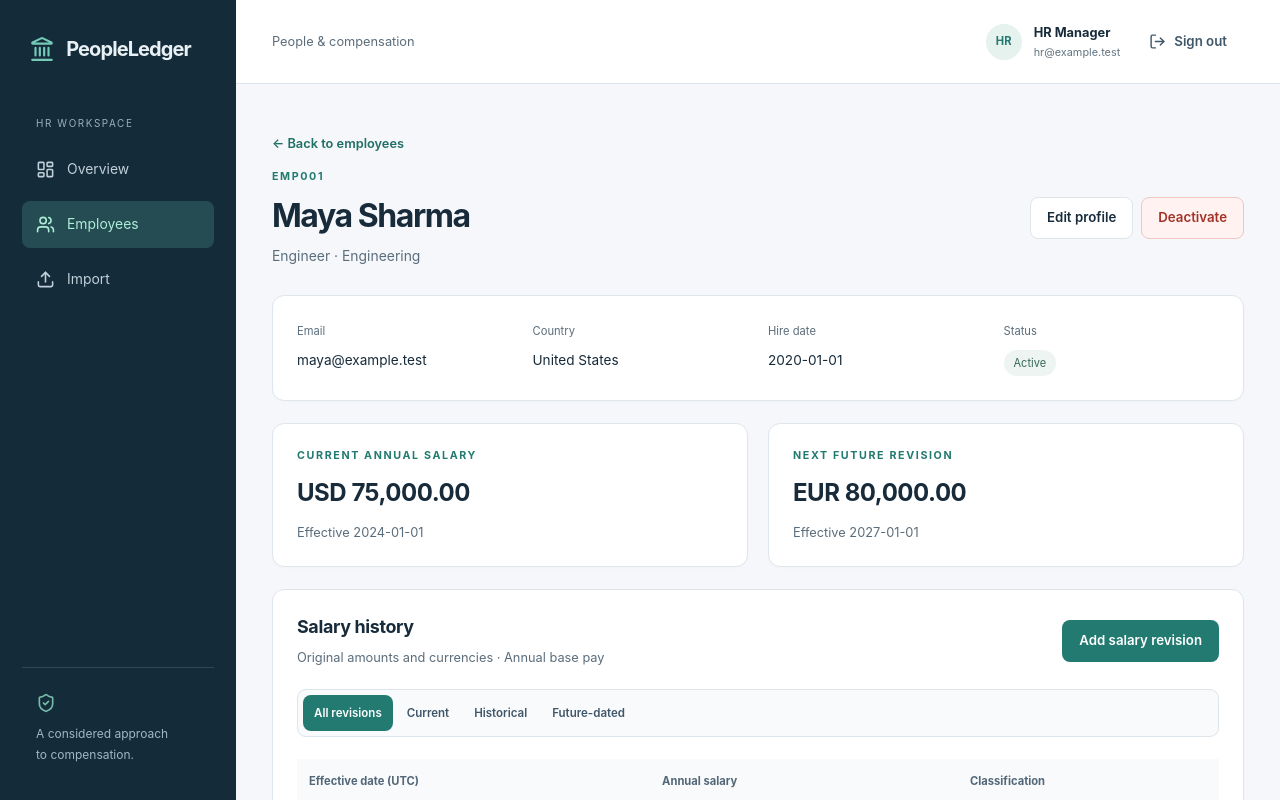
Scenario: employee and salary flows › rejects pre-hire revisions locally and accepts valid future revisions
Expected: the heading "Maya Sharma" is shown, [272,196,470,236]
Click the button "Add salary revision".
click(1141, 641)  # box [1062,620,1219,662]
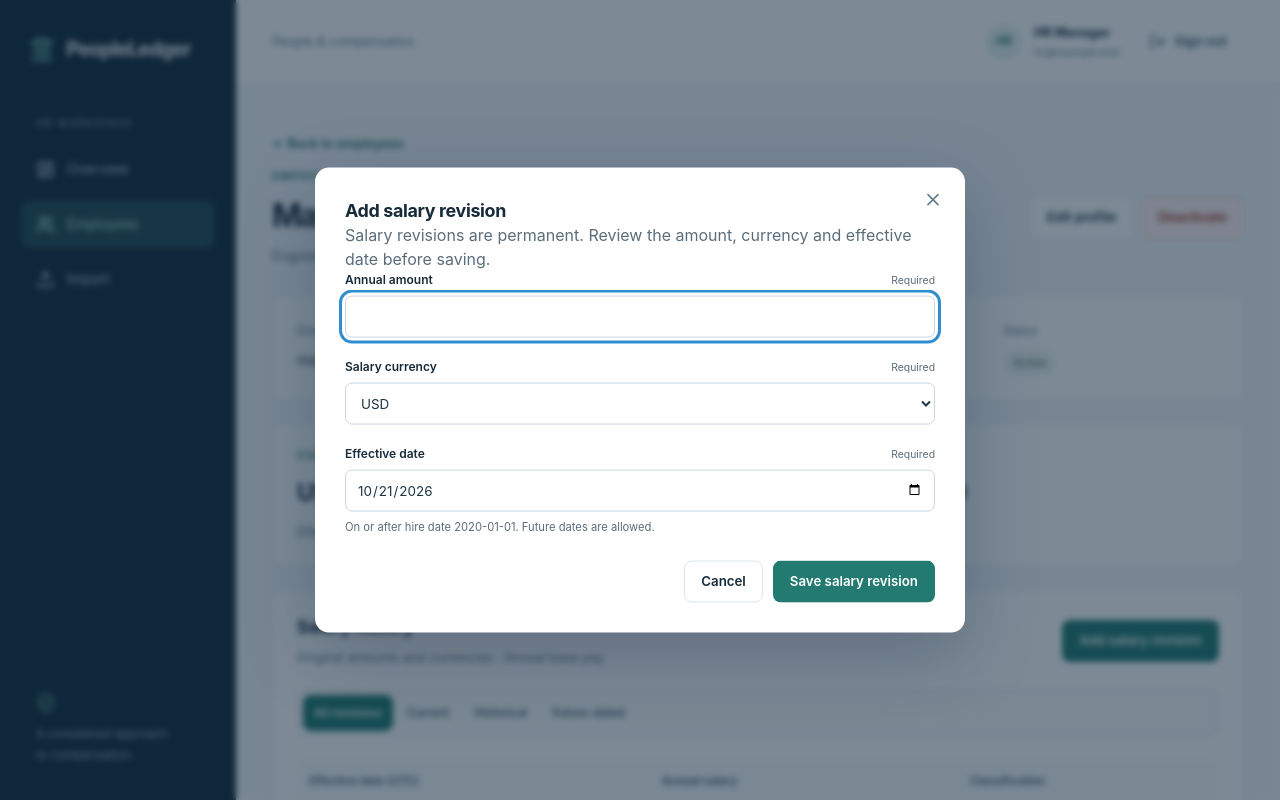
Type "90000" into the field labelled "Annual amount".
click(640, 317); type("90000")  # box [345,296,935,338]
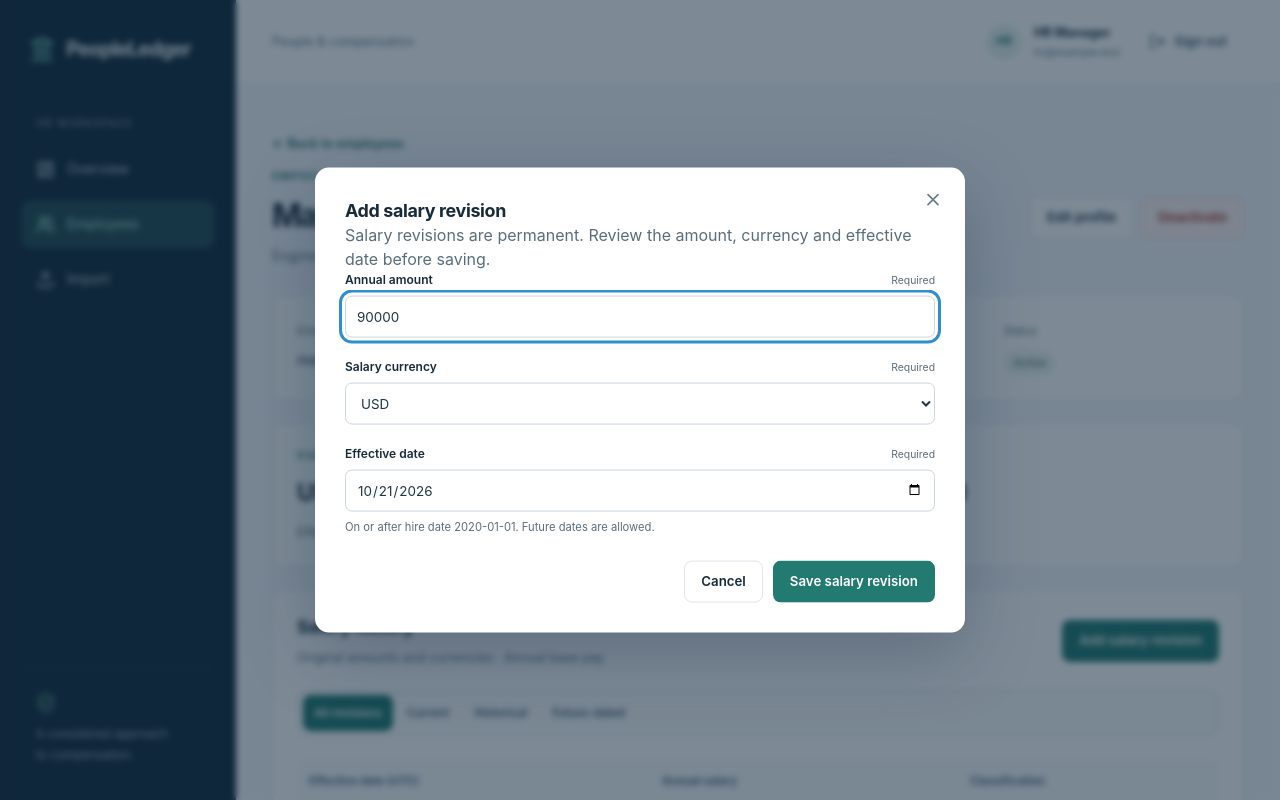
Type "2019-01-01" into the date field labelled "Effective date".
click(640, 491); type("2019-01-01")  # box [345,470,935,512]
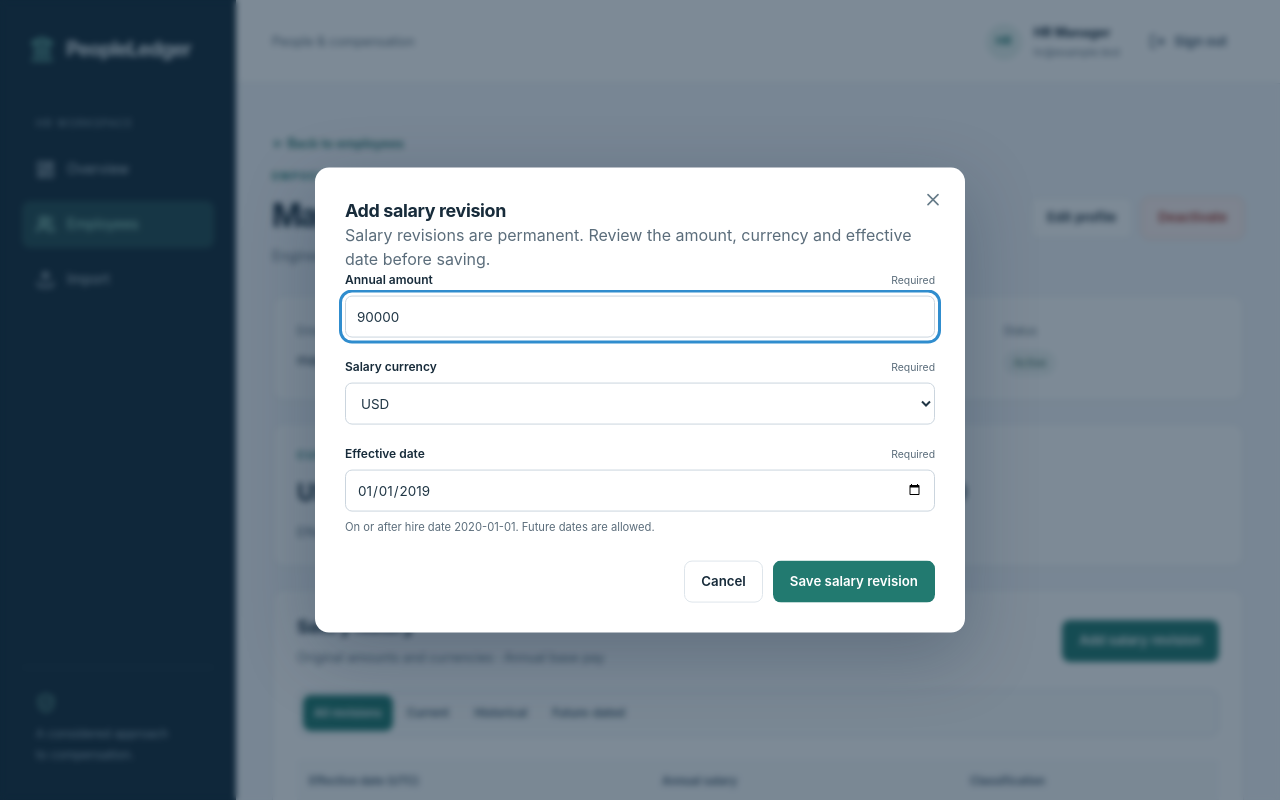
Click the button "Save salary revision".
click(854, 581)  # box [773,560,935,602]
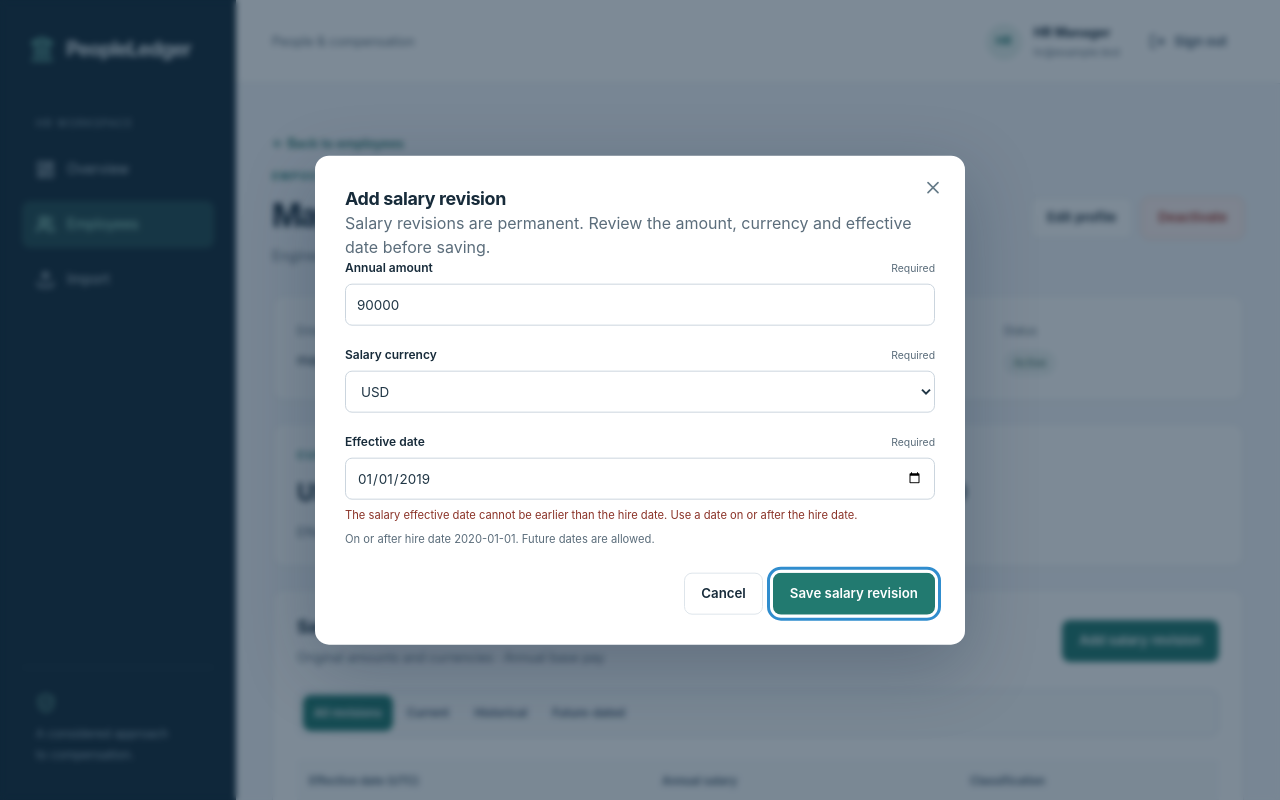
Result: the message shows "earlier than the hire date" at [345,508,858,522]
Type "2028-01-01" into the date field labelled "Effective date".
click(640, 479); type("2028-01-01")  # box [345,458,935,500]
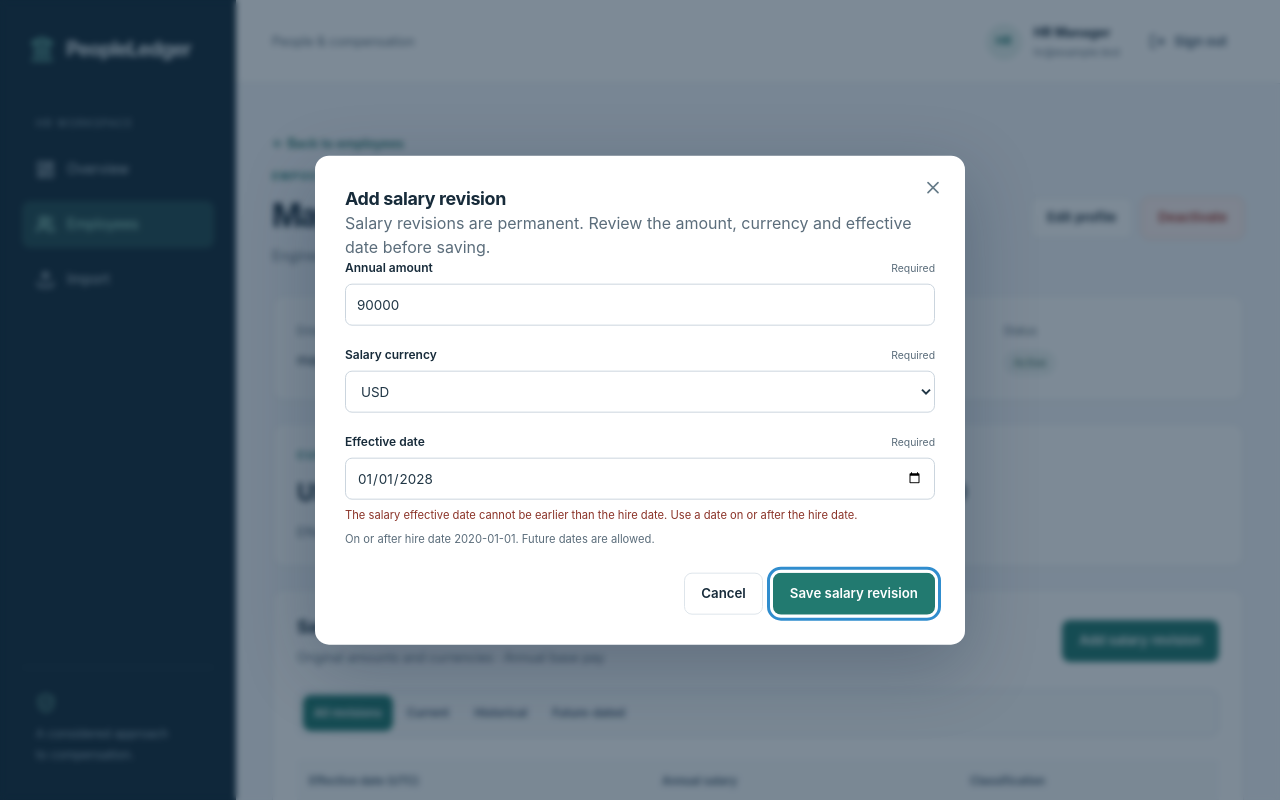
Click the button "Save salary revision".
click(854, 593)  # box [773,572,935,614]
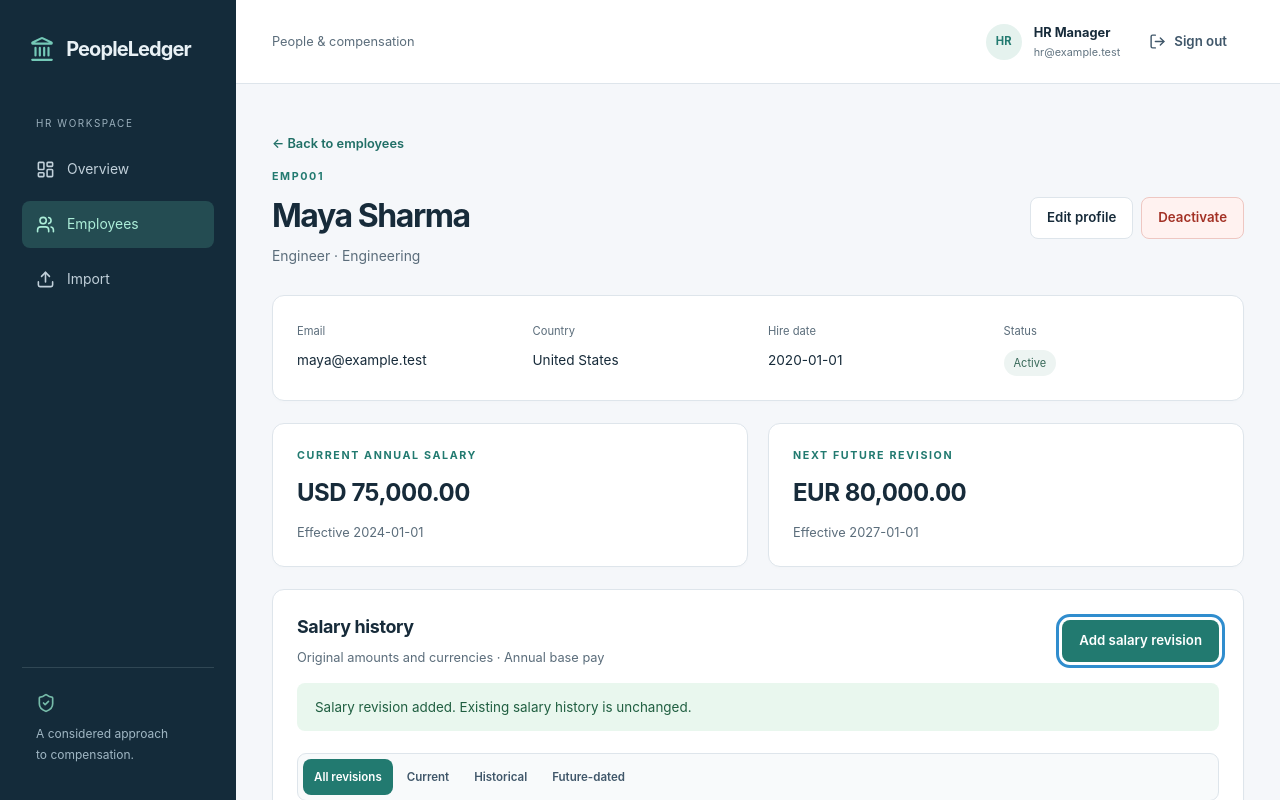
Result: the text "Salary revision added. Existing salary history is unchanged." is shown at [297,683,1219,731]
